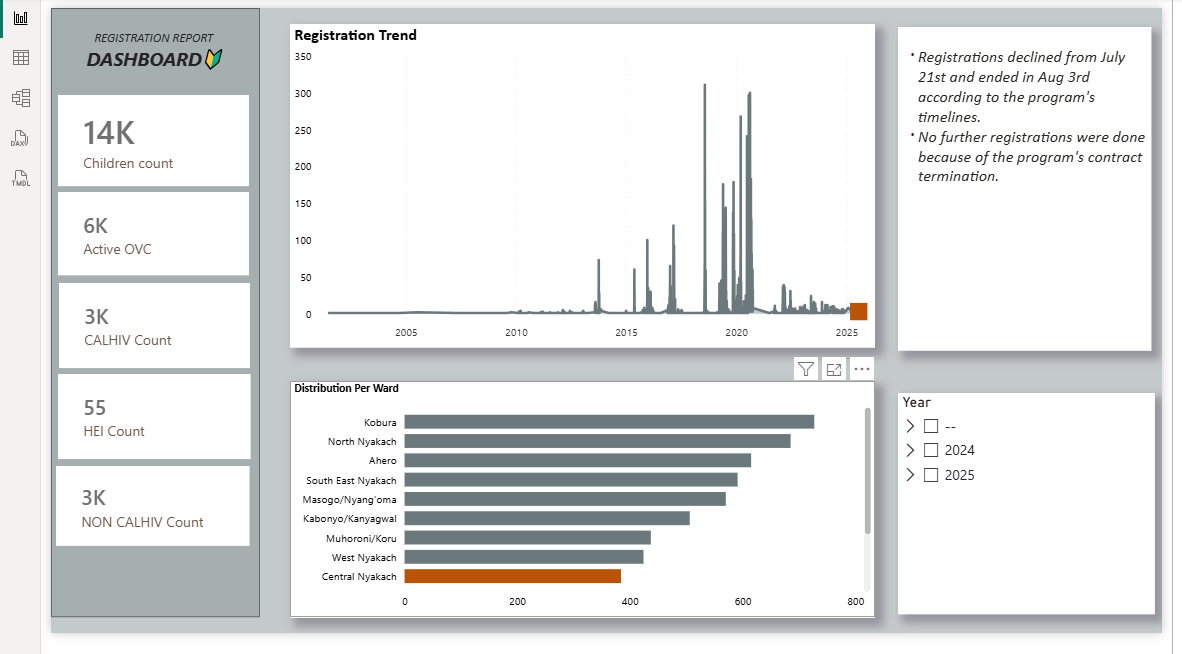

The dashboard page shown, as its layout file describes it:
{"tool":"powerbi","page":{"name":"Registration","canvas":[1280,720],"ordinal":0},"visuals":[{"type":"shape","box":[0,0,240.9,701.9],"z":0},{"type":"cardVisual","fields":{"Data":["Table of measures.Children count"]},"box":[8.1,100.6,220.2,104.6],"z":0,"group":"g1"},{"type":"listSlicer","fields":{"Values":["Date table.Date.Variation.Date Hierarchy.Year","Date table.Date.Variation.Date Hierarchy.Month"]},"box":[976,443.4,295.9,254.6],"z":0,"group":"g2"},{"type":"lineChart","title":"Registration Trend","fields":{"Y":["Table of measures.Registration Trend"],"Category":["Registration table.REGISTRATION_DATE"]},"box":[275.3,18,674.4,373],"z":1000},{"type":"cardVisual","fields":{"Data":["Table of measures.Active OVC"]},"box":[7.9,212.9,220.2,96.3],"z":1000,"group":"g1"},{"type":"textbox","box":[8.1,20.9,220.3,55.7],"z":2000},{"type":"textbox","box":[975.8,21.4,291.8,373],"z":2000,"group":"g2"},{"type":"cardVisual","fields":{"Data":["Table of measures.CALHIV Count"]},"box":[8.3,317,220.2,97.7],"z":2000,"group":"g1"},{"type":"cardVisual","fields":{"Data":["Table of measures.HEI Count"]},"box":[8.1,422.4,221.6,97.7],"z":3000,"group":"g1"},{"type":"barChart","title":"Distribution Per Ward","fields":{"Category":["Registration table.WARD"],"Y":["Table of measures.Active OVC"]},"box":[275.3,429.5,674.4,272.5],"z":3000},{"type":"group","id":"g1","title":"Group 1","box":[5.3,100.6,224.3,519.5],"z":4000},{"type":"cardVisual","fields":{"Data":["Table of measures.NON CALHIV Count"]},"box":[5.3,527.9,223,92.2],"z":4000,"group":"g1"},{"type":"group","id":"g2","title":"Group 2","box":[975.8,21.4,296.2,676.6],"z":5000}]}

Visuals, with their boxes on the page's 1280x720 design canvas (x1, y1, x2, y2). These are canvas units, not pixel positions in the 1182x654 screenshot, which may show the page scaled, cropped or inside an application window:
shape: [x1=0, y1=0, x2=241, y2=702]
cardVisual - Table of measures.Children count: [x1=8, y1=101, x2=228, y2=205]
listSlicer - Date table.Date.Variation.Date Hierarchy.Year x Date table.Date.Variation.Date Hierarchy.Month: [x1=976, y1=443, x2=1272, y2=698]
"Registration Trend" lineChart: [x1=275, y1=18, x2=950, y2=391]
cardVisual - Table of measures.Active OVC: [x1=8, y1=213, x2=228, y2=309]
textbox: [x1=8, y1=21, x2=228, y2=77]
textbox: [x1=976, y1=21, x2=1268, y2=394]
cardVisual - Table of measures.CALHIV Count: [x1=8, y1=317, x2=228, y2=415]
cardVisual - Table of measures.HEI Count: [x1=8, y1=422, x2=230, y2=520]
"Distribution Per Ward" barChart: [x1=275, y1=430, x2=950, y2=702]
"Group 1" group: [x1=5, y1=101, x2=230, y2=620]
cardVisual - Table of measures.NON CALHIV Count: [x1=5, y1=528, x2=228, y2=620]
"Group 2" group: [x1=976, y1=21, x2=1272, y2=698]
